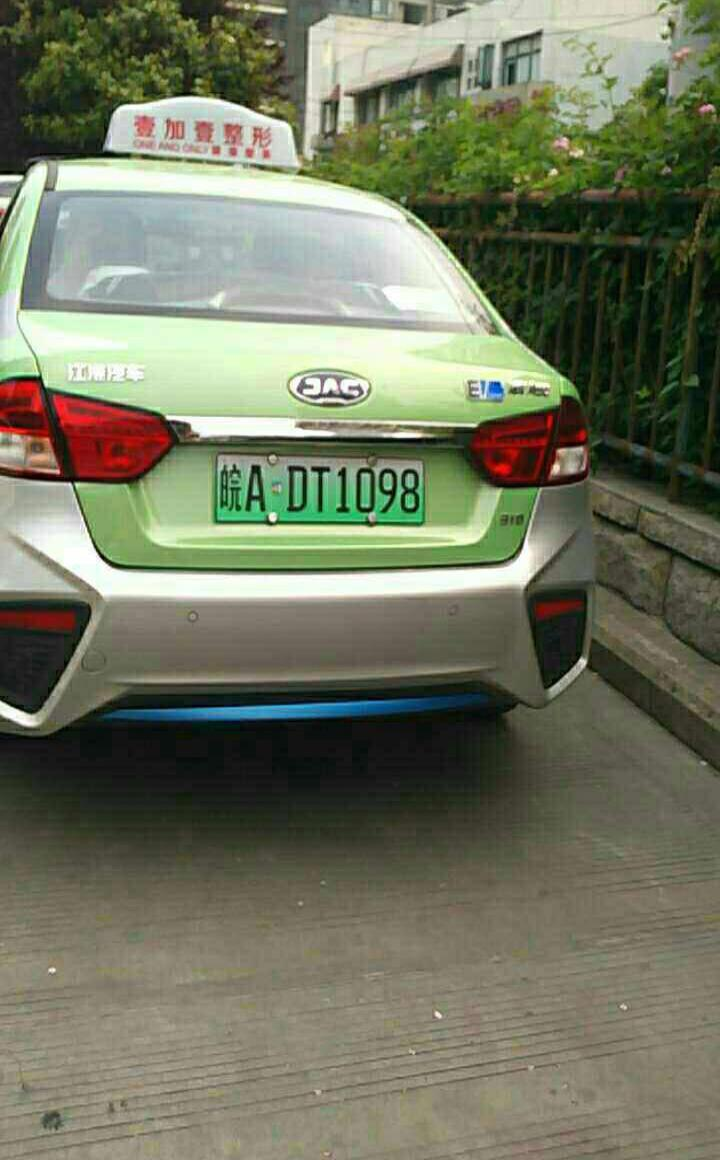car_id: (213, 450, 426, 523)
